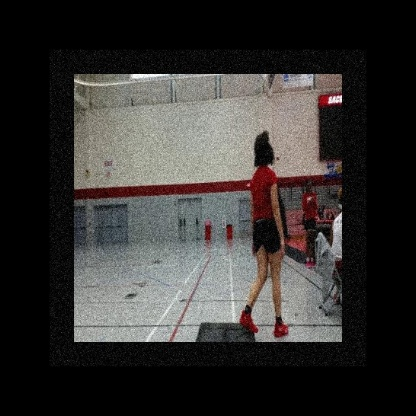lateral_flexion_right: (237, 124, 289, 342)
stance_width_broad: (237, 161, 289, 342)
